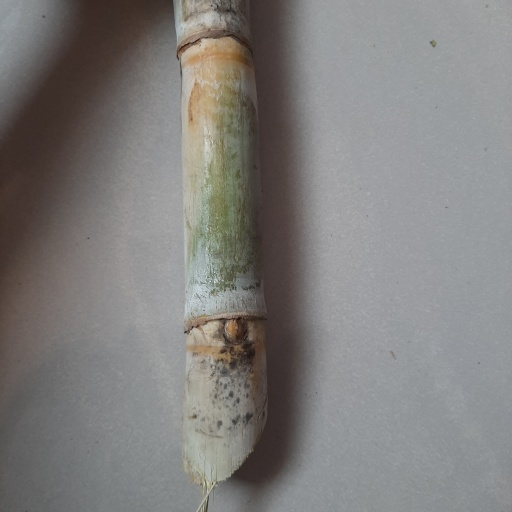Bud: (223, 318, 249, 344)
